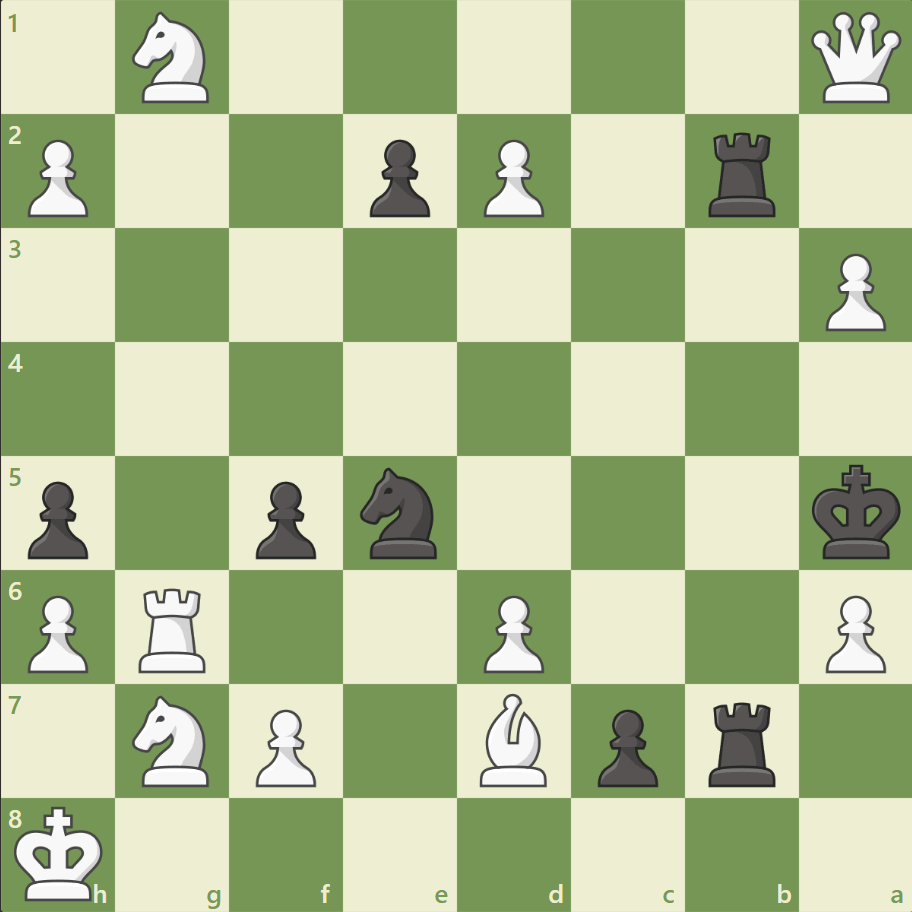B: (471, 687, 555, 790)
K: (11, 798, 111, 906)
N: (124, 688, 222, 791), (124, 7, 222, 110)
P: (247, 700, 322, 791), (474, 586, 549, 677), (20, 586, 95, 677), (474, 132, 549, 223), (20, 132, 95, 223), (815, 586, 889, 677), (815, 246, 889, 337)
Q: (805, 9, 904, 108)
R: (133, 579, 215, 676)
k: (806, 458, 906, 566)
n: (351, 461, 449, 564)
p: (247, 473, 322, 564), (20, 473, 95, 564), (588, 700, 662, 791), (361, 132, 435, 223)
r: (700, 693, 783, 790), (700, 125, 783, 222)
